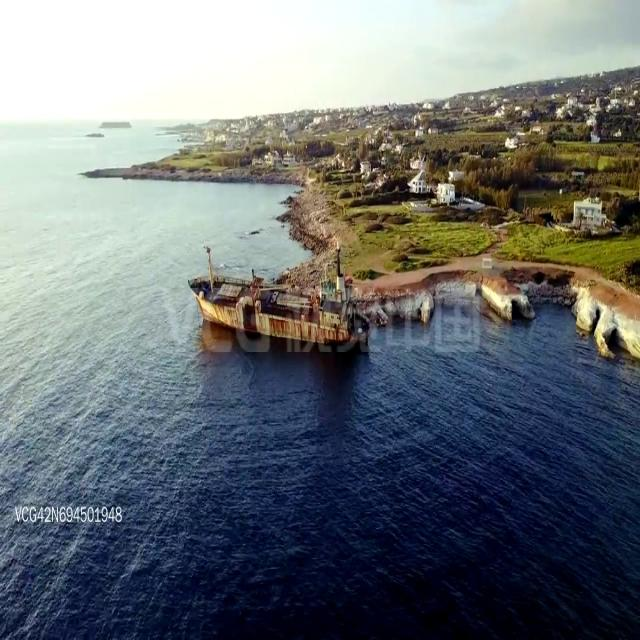cargoship: (185, 246, 371, 356)
